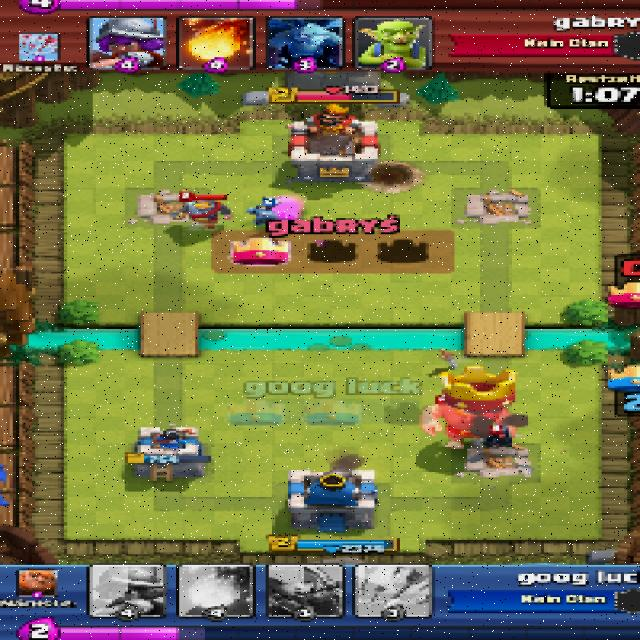Enemy-Giant: (417, 396, 515, 448)
Enemy-Knight: (168, 197, 236, 228)
Enemy-MiniPEKKA: (486, 426, 515, 448)
Player-Minion: (249, 202, 284, 223)
